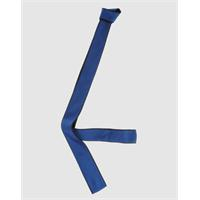tie: (60, 7, 136, 194)
